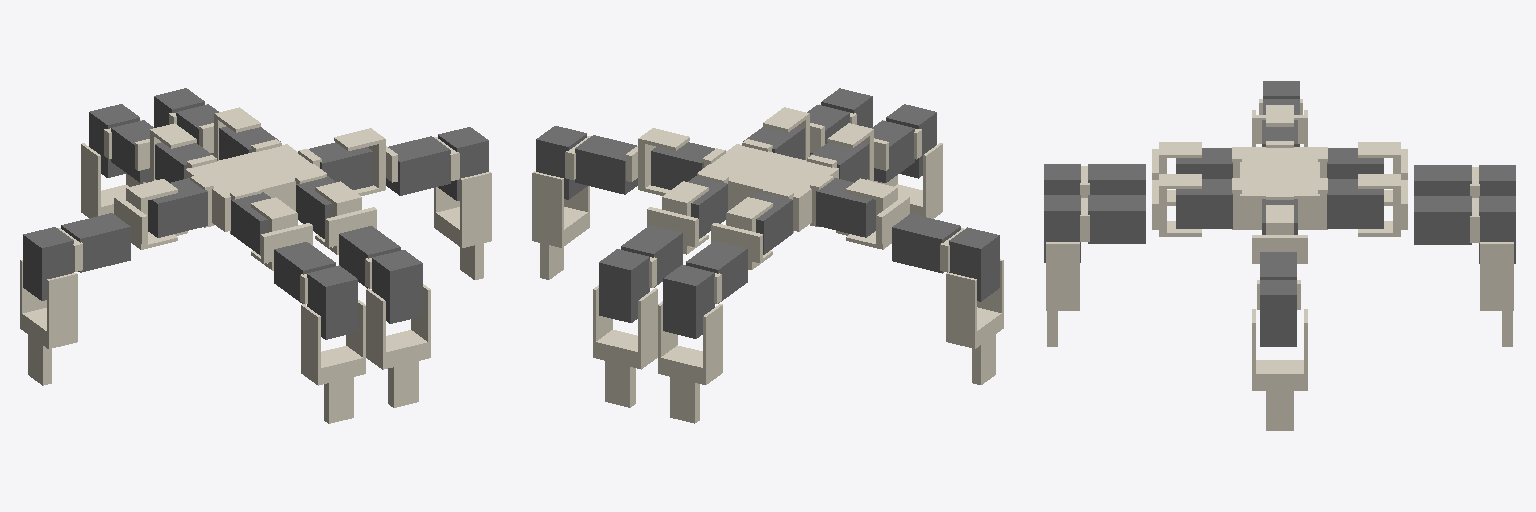
--- What the picture shows (computed from the rendered views, not written in the file) ---
3 views of the same robot in one strip: view 1: azimuth 30°, elevation 25°; view 2: azimuth 150°, elevation 25°; view 3: azimuth 270°, elevation 25° (orthographic).
Model onshape with 19 links and 18 joints (18 revolute), rooted at body, posed all joints at 0.
Links seen in each view (by area): view 1: body, segment2_3, segment2_4, segment2_5, segment2_6, segment3_5, segment3_4, segment3_3, segment3_6, segment2_2, segment1_3, segment1_4 (+6 smaller); view 2: body, segment2_3, segment2_2, segment2, segment2_6, segment3, segment3_2, segment3_3, segment3_6, segment2_4, segment1_2, segment1 (+6 smaller); view 3: body, segment2_5, segment2, segment2_6, segment3_6, segment2_4, segment2_2, segment3, segment3_5, segment1_6, segment1, segment1_5 (+4 smaller).
Boxes of the visible links, <box> form: body: <box>148,126,372,255</box>; segment2_3: <box>23,213,130,300</box>; segment2_4: <box>274,242,357,339</box>; segment2_5: <box>339,226,422,323</box>; segment2_6: <box>386,127,488,200</box>; segment3_5: <box>366,284,430,407</box>; segment3_4: <box>301,300,365,423</box>; segment3_3: <box>20,260,77,385</box>; segment3_6: <box>434,172,491,279</box>; segment2_2: <box>89,104,153,182</box>; segment1_3: <box>114,179,177,249</box>; segment1_4: <box>251,197,312,270</box>; body: <box>651,126,875,254</box>; segment2_3: <box>892,214,999,301</box>; segment2_2: <box>663,241,747,338</box>; segment2: <box>599,225,682,322</box>; segment2_6: <box>536,126,637,199</box>; segment3: <box>593,285,657,407</box>; segment3_2: <box>658,301,722,423</box>; segment3_3: <box>946,259,1003,384</box>; segment3_6: <box>532,171,589,279</box>; segment2_4: <box>872,104,936,182</box>; segment1_2: <box>711,197,772,269</box>; segment1: <box>647,181,708,254</box>; body: <box>1176,120,1383,234</box>; segment2_5: <box>1044,195,1145,262</box>; segment2: <box>1414,196,1515,263</box>; segment2_6: <box>1257,252,1300,346</box>; segment3_6: <box>1252,309,1307,430</box>; segment2_4: <box>1044,164,1145,197</box>; segment2_2: <box>1414,165,1515,197</box>; segment3: <box>1480,242,1513,346</box>; segment3_5: <box>1046,242,1079,346</box>; segment1_6: <box>1252,205,1307,263</box>; segment1: <box>1358,174,1407,236</box>; segment1_5: <box>1152,174,1201,236</box>.
Bounding box of the posed robot: 0.441 × 0.409 × 0.1544 m (x, y, z).
Geometry: primitives only (box / cylinder / sphere), no mesh files.

URDF robot description (onshape):
<robot name="onshape">
<link name="body">
<!-- Shapes for prt0006 -->
<!-- Shapes for prt0006 -->
<!-- Shapes for f3 -->
<collision>
<origin xyz="0.032000000000000007605 0.035350000000000006417 -0.016000000000000000333" rpy="-1.570796326794896558 -0 -1.570796326794896558" />
<geometry>
<box size="0.0043000000000000000028 0.037999999999999999056 0.025000000000000001388" />
</geometry>
</collision>
<!-- Shapes for f3 -->
<visual>
<origin xyz="0.032000000000000007605 0.035350000000000006417 -0.016000000000000000333" rpy="-1.570796326794896558 -0 -1.570796326794896558" />
<geometry>
<box size="0.0043000000000000000028 0.037999999999999999056 0.025000000000000001388" />
</geometry>
<material name="f3_material">
<color rgba="0.90196078431372550543 0.87843137254901959565 0.81176470588235294379 1.0"/>
</material>
</visual>
<!-- Shapes for f3 -->
<collision>
<origin xyz="0.032000000000000007605 -0.039649999999999990807 -0.016000000000000000333" rpy="-1.570796326794896558 -0 -1.570796326794896558" />
<geometry>
<box size="0.0043000000000000000028 0.037999999999999999056 0.025000000000000001388" />
</geometry>
</collision>
<!-- Shapes for f3 -->
<visual>
<origin xyz="0.032000000000000007605 -0.039649999999999990807 -0.016000000000000000333" rpy="-1.570796326794896558 -0 -1.570796326794896558" />
<geometry>
<box size="0.0043000000000000000028 0.037999999999999999056 0.025000000000000001388" />
</geometry>
<material name="f3_material">
<color rgba="0.90196078431372550543 0.87843137254901959565 0.81176470588235294379 1.0"/>
</material>
</visual>
<!-- Shapes for f3 -->
<collision>
<origin xyz="0.032000000000000007605 0.039650000000000004685 -0.016000000000000000333" rpy="-1.570796326794896558 -0 1.570796326794896558" />
<geometry>
<box size="0.0043000000000000000028 0.037999999999999999056 0.025000000000000001388" />
</geometry>
</collision>
<!-- Shapes for f3 -->
<visual>
<origin xyz="0.032000000000000007605 0.039650000000000004685 -0.016000000000000000333" rpy="-1.570796326794896558 -0 1.570796326794896558" />
<geometry>
<box size="0.0043000000000000000028 0.037999999999999999056 0.025000000000000001388" />
</geometry>
<material name="f3_material">
<color rgba="0.90196078431372550543 0.87843137254901959565 0.81176470588235294379 1.0"/>
</material>
</visual>
<!-- Shapes for f3 -->
<collision>
<origin xyz="0.051349999999999999811 0 -0.016000000000000000333" rpy="-1.570796326794896558 -0 3.141592653589793116" />
<geometry>
<box size="0.0043000000000000000028 0.037999999999999999056 0.025000000000000001388" />
</geometry>
</collision>
<!-- Shapes for f3 -->
<visual>
<origin xyz="0.051349999999999999811 0 -0.016000000000000000333" rpy="-1.570796326794896558 -0 3.141592653589793116" />
<geometry>
<box size="0.0043000000000000000028 0.037999999999999999056 0.025000000000000001388" />
</geometry>
<material name="f3_material">
<color rgba="0.90196078431372550543 0.87843137254901959565 0.81176470588235294379 1.0"/>
</material>
</visual>
<!-- Shapes for f3 -->
<collision>
<origin xyz="-0.032000000000000000666 0.035350000000000034173 -0.016000000000000000333" rpy="-1.570796326794896558 -0 -1.570796326794896558" />
<geometry>
<box size="0.0043000000000000000028 0.037999999999999999056 0.025000000000000001388" />
</geometry>
</collision>
<!-- Shapes for f3 -->
<visual>
<origin xyz="-0.032000000000000000666 0.035350000000000034173 -0.016000000000000000333" rpy="-1.570796326794896558 -0 -1.570796326794896558" />
<geometry>
<box size="0.0043000000000000000028 0.037999999999999999056 0.025000000000000001388" />
</geometry>
<material name="f3_material">
<color rgba="0.90196078431372550543 0.87843137254901959565 0.81176470588235294379 1.0"/>
</material>
</visual>
<!-- Shapes for prt0006 -->
<!-- Shapes for prt0006 -->
<!-- Shapes for ax123_adaptor_cm5 -->
<collision>
<origin xyz="0 0 -0.016000000000000000333" rpy="0 -0 3.141592653589793116" />
<geometry>
<box size="0.10100000000000000644 0.069000000000000005773 0.032000000000000000666" />
</geometry>
</collision>
<!-- Shapes for ax123_adaptor_cm5 -->
<visual>
<origin xyz="0 0 -0.016000000000000000333" rpy="0 -0 3.141592653589793116" />
<geometry>
<box size="0.10100000000000000644 0.069000000000000005773 0.032000000000000000666" />
</geometry>
<material name="ax123_adaptor_cm5_material">
<color rgba="0.90196078431372550543 0.87843137254901959565 0.81176470588235294379 1.0"/>
</material>
</visual>
<!-- Shapes for f3 -->
<collision>
<origin xyz="0.032000000000000007605 -0.035349999999999999478 -0.016000000000000000333" rpy="-1.570796326794896558 -0 1.570796326794896558" />
<geometry>
<box size="0.0043000000000000000028 0.037999999999999999056 0.025000000000000001388" />
</geometry>
</collision>
<!-- Shapes for f3 -->
<visual>
<origin xyz="0.032000000000000007605 -0.035349999999999999478 -0.016000000000000000333" rpy="-1.570796326794896558 -0 1.570796326794896558" />
<geometry>
<box size="0.0043000000000000000028 0.037999999999999999056 0.025000000000000001388" />
</geometry>
<material name="f3_material">
<color rgba="0.90196078431372550543 0.87843137254901959565 0.81176470588235294379 1.0"/>
</material>
</visual>
<!-- Shapes for prt0006 -->
<!-- Shapes for prt0006 -->
<!-- Shapes for f3 -->
<collision>
<origin xyz="0.055649999999999998079 0 -0.016000000000000000333" rpy="-1.570796326794896558 -0 0" />
<geometry>
<box size="0.0043000000000000000028 0.037999999999999999056 0.025000000000000001388" />
</geometry>
</collision>
<!-- Shapes for f3 -->
<visual>
<origin xyz="0.055649999999999998079 0 -0.016000000000000000333" rpy="-1.570796326794896558 -0 0" />
<geometry>
<box size="0.0043000000000000000028 0.037999999999999999056 0.025000000000000001388" />
</geometry>
<material name="f3_material">
<color rgba="0.90196078431372550543 0.87843137254901959565 0.81176470588235294379 1.0"/>
</material>
</visual>
<!-- Shapes for f3 -->
<collision>
<origin xyz="-0.032000000000000000666 -0.035349999999999992539 -0.016000000000000000333" rpy="-1.570796326794896558 -0 1.570796326794896558" />
<geometry>
<box size="0.0043000000000000000028 0.037999999999999999056 0.025000000000000001388" />
</geometry>
</collision>
<!-- Shapes for f3 -->
<visual>
<origin xyz="-0.032000000000000000666 -0.035349999999999992539 -0.016000000000000000333" rpy="-1.570796326794896558 -0 1.570796326794896558" />
<geometry>
<box size="0.0043000000000000000028 0.037999999999999999056 0.025000000000000001388" />
</geometry>
<material name="f3_material">
<color rgba="0.90196078431372550543 0.87843137254901959565 0.81176470588235294379 1.0"/>
</material>
</visual>
<!-- Shapes for prt0001 -->
<collision>
<origin xyz="0.032000000000000007605 -0.065499999999999988787 -0.015800000000000001543" rpy="0 -0 0" />
<geometry>
<box size="0.032000000000000000666 0.050000000000000002776 0.032399999999999998246" />
</geometry>
</collision>
<!-- Shapes for prt0001 -->
<visual>
<origin xyz="0.032000000000000007605 -0.065499999999999988787 -0.015800000000000001543" rpy="0 -0 0" />
<geometry>
<box size="0.032000000000000000666 0.050000000000000002776 0.032399999999999998246" />
</geometry>
<material name="prt0001_material">
<color rgba="0.49803921568627451677 0.49803921568627451677 0.49803921568627451677 1.0"/>
</material>
</visual>
<!-- Shapes for prt0006 -->
<!-- Shapes for prt0006 -->
<!-- Shapes for prt0006 -->
<!-- Shapes for prt0006 -->
<!-- Shapes for prt0006 -->
<!-- Shapes for prt0006 -->
<!-- Shapes for prt0001 -->
<collision>
<origin xyz="0.032000000000000007605 0.065500000000000016542 -0.015800000000000001543" rpy="0 -0 3.141592653589793116" />
<geometry>
<box size="0.032000000000000000666 0.050000000000000002776 0.032399999999999998246" />
</geometry>
</collision>
<!-- Shapes for prt0001 -->
<visual>
<origin xyz="0.032000000000000007605 0.065500000000000016542 -0.015800000000000001543" rpy="0 -0 3.141592653589793116" />
<geometry>
<box size="0.032000000000000000666 0.050000000000000002776 0.032399999999999998246" />
</geometry>
<material name="prt0001_material">
<color rgba="0.49803921568627451677 0.49803921568627451677 0.49803921568627451677 1.0"/>
</material>
</visual>
<!-- Shapes for prt0001 -->
<collision>
<origin xyz="-0.031999999999999993727 0.065500000000000016542 -0.015800000000000001543" rpy="0 -0 3.141592653589793116" />
<geometry>
<box size="0.032000000000000000666 0.050000000000000002776 0.032399999999999998246" />
</geometry>
</collision>
<!-- Shapes for prt0001 -->
<visual>
<origin xyz="-0.031999999999999993727 0.065500000000000016542 -0.015800000000000001543" rpy="0 -0 3.141592653589793116" />
<geometry>
<box size="0.032000000000000000666 0.050000000000000002776 0.032399999999999998246" />
</geometry>
<material name="prt0001_material">
<color rgba="0.49803921568627451677 0.49803921568627451677 0.49803921568627451677 1.0"/>
</material>
</visual>
<!-- Shapes for f3 -->
<collision>
<origin xyz="-0.055649999999999998079 0 -0.016000000000000007272" rpy="-1.570796326794896558 1.1102230246251562939e-16 3.141592653589793116" />
<geometry>
<box size="0.0043000000000000000028 0.037999999999999999056 0.025000000000000001388" />
</geometry>
</collision>
<!-- Shapes for f3 -->
<visual>
<origin xyz="-0.055649999999999998079 0 -0.016000000000000007272" rpy="-1.570796326794896558 1.1102230246251562939e-16 3.141592653589793116" />
<geometry>
<box size="0.0043000000000000000028 0.037999999999999999056 0.025000000000000001388" />
</geometry>
<material name="f3_material">
<color rgba="0.90196078431372550543 0.87843137254901959565 0.81176470588235294379 1.0"/>
</material>
</visual>
<!-- Shapes for f3 -->
<collision>
<origin xyz="-0.032000000000000000666 0.039650000000000004685 -0.016000000000000000333" rpy="-1.570796326794896558 -0 1.570796326794896558" />
<geometry>
<box size="0.0043000000000000000028 0.037999999999999999056 0.025000000000000001388" />
</geometry>
</collision>
<!-- Shapes for f3 -->
<visual>
<origin xyz="-0.032000000000000000666 0.039650000000000004685 -0.016000000000000000333" rpy="-1.570796326794896558 -0 1.570796326794896558" />
<geometry>
<box size="0.0043000000000000000028 0.037999999999999999056 0.025000000000000001388" />
</geometry>
<material name="f3_material">
<color rgba="0.90196078431372550543 0.87843137254901959565 0.81176470588235294379 1.0"/>
</material>
</visual>
<!-- Shapes for f3 -->
<collision>
<origin xyz="-0.051349999999999999811 0 -0.016000000000000000333" rpy="-1.570796326794896558 -0 0" />
<geometry>
<box size="0.0043000000000000000028 0.037999999999999999056 0.025000000000000001388" />
</geometry>
</collision>
<!-- Shapes for f3 -->
<visual>
<origin xyz="-0.051349999999999999811 0 -0.016000000000000000333" rpy="-1.570796326794896558 -0 0" />
<geometry>
<box size="0.0043000000000000000028 0.037999999999999999056 0.025000000000000001388" />
</geometry>
<material name="f3_material">
<color rgba="0.90196078431372550543 0.87843137254901959565 0.81176470588235294379 1.0"/>
</material>
</visual>
<!-- Shapes for f3 -->
<collision>
<origin xyz="-0.032000000000000000666 -0.039649999999999990807 -0.016000000000000000333" rpy="-1.570796326794896558 -0 -1.570796326794896558" />
<geometry>
<box size="0.0043000000000000000028 0.037999999999999999056 0.025000000000000001388" />
</geometry>
</collision>
<!-- Shapes for f3 -->
<visual>
<origin xyz="-0.032000000000000000666 -0.039649999999999990807 -0.016000000000000000333" rpy="-1.570796326794896558 -0 -1.570796326794896558" />
<geometry>
<box size="0.0043000000000000000028 0.037999999999999999056 0.025000000000000001388" />
</geometry>
<material name="f3_material">
<color rgba="0.90196078431372550543 0.87843137254901959565 0.81176470588235294379 1.0"/>
</material>
</visual>
<!-- Shapes for prt0001 -->
<collision>
<origin xyz="-0.032000000000000000666 -0.065499999999999988787 -0.015800000000000001543" rpy="0 -0 0" />
<geometry>
<box size="0.032000000000000000666 0.050000000000000002776 0.032399999999999998246" />
</geometry>
</collision>
<!-- Shapes for prt0001 -->
<visual>
<origin xyz="-0.032000000000000000666 -0.065499999999999988787 -0.015800000000000001543" rpy="0 -0 0" />
<geometry>
<box size="0.032000000000000000666 0.050000000000000002776 0.032399999999999998246" />
</geometry>
<material name="prt0001_material">
<color rgba="0.49803921568627451677 0.49803921568627451677 0.49803921568627451677 1.0"/>
</material>
</visual>
<!-- Shapes for prt0001 -->
<collision>
<origin xyz="0.081500000000000030753 0 -0.015800000000000001543" rpy="0 -0 1.570796326794896558" />
<geometry>
<box size="0.032000000000000000666 0.050000000000000002776 0.032399999999999998246" />
</geometry>
</collision>
<!-- Shapes for prt0001 -->
<visual>
<origin xyz="0.081500000000000030753 0 -0.015800000000000001543" rpy="0 -0 1.570796326794896558" />
<geometry>
<box size="0.032000000000000000666 0.050000000000000002776 0.032399999999999998246" />
</geometry>
<material name="prt0001_material">
<color rgba="0.49803921568627451677 0.49803921568627451677 0.49803921568627451677 1.0"/>
</material>
</visual>
<!-- Shapes for prt0001 -->
<collision>
<origin xyz="-0.08149999999999998912 -2.2204460492502996456e-20 -0.015800000000000008482" rpy="1.1102230246251565404e-16 -1.1102230246251560474e-16 -1.570796326794896558" />
<geometry>
<box size="0.032000000000000000666 0.050000000000000002776 0.032399999999999998246" />
</geometry>
</collision>
<!-- Shapes for prt0001 -->
<visual>
<origin xyz="-0.08149999999999998912 -2.2204460492502996456e-20 -0.015800000000000008482" rpy="1.1102230246251565404e-16 -1.1102230246251560474e-16 -1.570796326794896558" />
<geometry>
<box size="0.032000000000000000666 0.050000000000000002776 0.032399999999999998246" />
</geometry>
<material name="prt0001_material">
<color rgba="0.49803921568627451677 0.49803921568627451677 0.49803921568627451677 1.0"/>
</material>
</visual>
<inertial>
<origin xyz="3.4235565708490930351e-17 -5.3264611426996225528e-17 -0.014591079637799557814" rpy="0 0 0"/>
<mass value="0.34202395142368996472" />
<inertia ixx="0.00090770514054412383513" ixy="1.2368741741144997807e-07"  ixz="-6.3103954570445375261e-20" iyy="0.00094740729227736869382" iyz="8.8721738141212642351e-20" izz="0.001779180310385669421" />
</inertial>
</link>

<link name="segment1">
<!-- Shapes for f2 -->
<collision>
<origin xyz="0 -0.0074999999999999997224 0.043700000000000002731" rpy="-3.141592653589793116 1.570796326794896558 0" />
<geometry>
<box size="0.0033999999999999998106 0.036999999999999998168 0.025000000000000001388" />
</geometry>
</collision>
<collision>
<origin xyz="0 -0.022499999999999999167 0.021000000000000001305" rpy="-3.141592653589793116 1.570796326794896558 0" />
<geometry>
<box size="0.048799999999999996159 0.0070000000000000001457 0.025000000000000001388" />
</geometry>
</collision>
<collision>
<origin xyz="0 -0.0074999999999999997224 -0.0016999999999999966527" rpy="-0 -1.570796326794896558 0" />
<geometry>
<box size="0.0033999999999999998106 0.036999999999999998168 0.025000000000000001388" />
</geometry>
</collision>
<!-- Shapes for f2 -->
<visual>
<origin xyz="0 -0.0074999999999999997224 0.043700000000000002731" rpy="-3.141592653589793116 1.570796326794896558 0" />
<geometry>
<box size="0.0033999999999999998106 0.036999999999999998168 0.025000000000000001388" />
</geometry>
<material name="f2_material">
<color rgba="0.90196078431372550543 0.87843137254901959565 0.81176470588235294379 1.0"/>
</material>
</visual>
<visual>
<origin xyz="0 -0.022499999999999999167 0.021000000000000001305" rpy="-3.141592653589793116 1.570796326794896558 0" />
<geometry>
<box size="0.048799999999999996159 0.0070000000000000001457 0.025000000000000001388" />
</geometry>
<material name="f2_material">
<color rgba="0.90196078431372550543 0.87843137254901959565 0.81176470588235294379 1.0"/>
</material>
</visual>
<visual>
<origin xyz="0 -0.0074999999999999997224 -0.0016999999999999966527" rpy="-0 -1.570796326794896558 0" />
<geometry>
<box size="0.0033999999999999998106 0.036999999999999998168 0.025000000000000001388" />
</geometry>
<material name="f2_material">
<color rgba="0.90196078431372550543 0.87843137254901959565 0.81176470588235294379 1.0"/>
</material>
</visual>
<!-- Shapes for f1 -->
<collision>
<origin xyz="0 -0.029000000000000015349 0.020999999999999990896" rpy="3.141592653589793116 -0 0" />
<geometry>
<box size="0.048000000000000000999 0.0060000000000000001249 0.025000000000000001388" />
</geometry>
</collision>
<!-- Shapes for f1 -->
<visual>
<origin xyz="0 -0.029000000000000015349 0.020999999999999990896" rpy="3.141592653589793116 -0 0" />
<geometry>
<box size="0.048000000000000000999 0.0060000000000000001249 0.025000000000000001388" />
</geometry>
<material name="f1_material">
<color rgba="0.90196078431372550543 0.87843137254901959565 0.81176470588235294379 1.0"/>
</material>
</visual>
<inertial>
<origin xyz="1.0923468721934355308e-06 -0.026399668925609690723 0.022973185420021052794" rpy="0 0 0"/>
<mass value="0.016044750372786714676" />
<inertia ixx="6.8884928697577646296e-06" ixy="-3.3294419968167234695e-11"  ixz="3.4582901831144849148e-11" iyy="6.8184578480129727398e-06" iyz="6.5121638690356334061e-07" izz="6.8411800542906683518e-06" />
</inertial>
</link>

<link name="segment2">
<!-- Shapes for prt0006 -->
<!-- Shapes for prt0006 -->
<!-- Shapes for prt0006 -->
<!-- Shapes for prt0006 -->
<!-- Shapes for prt0001 -->
<collision>
<origin xyz="-0.013500000000000001582 0 -0.019899999999999994083" rpy="0 -0 1.570796326794896558" />
<geometry>
<box size="0.032000000000000000666 0.050000000000000002776 0.032399999999999998246" />
</geometry>
</collision>
<!-- Shapes for prt0001 -->
<visual>
<origin xyz="-0.013500000000000001582 0 -0.019899999999999994083" rpy="0 -0 1.570796326794896558" />
<geometry>
<box size="0.032000000000000000666 0.050000000000000002776 0.032399999999999998246" />
</geometry>
<material name="prt0001_material">
<color rgba="0.49803921568627451677 0.49803921568627451677 0.49803921568627451677 1.0"/>
</material>
</visual>
<!-- Shapes for f3 -->
<collision>
<origin xyz="-0.03935000000000000997 0 -0.020099999999999992872" rpy="-1.570796326794896558 -0 0" />
<geometry>
<box size="0.0043000000000000000028 0.037999999999999999056 0.025000000000000001388" />
</geometry>
</collision>
<!-- Shapes for f3 -->
<visual>
<origin xyz="-0.03935000000000000997 0 -0.020099999999999992872" rpy="-1.570796326794896558 -0 0" />
<geometry>
<box size="0.0043000000000000000028 0.037999999999999999056 0.025000000000000001388" />
</geometry>
<material name="f3_material">
<color rgba="0.90196078431372550543 0.87843137254901959565 0.81176470588235294379 1.0"/>
</material>
</visual>
<!-- Shapes for f3 -->
<collision>
<origin xyz="-0.043650000000000008238 0 -0.020099999999999992872" rpy="-1.570796326794896558 -0 3.141592653589793116" />
<geometry>
<box size="0.0043000000000000000028 0.037999999999999999056 0.025000000000000001388" />
</geometry>
</collision>
<!-- Shapes for f3 -->
<visual>
<origin xyz="-0.043650000000000008238 0 -0.020099999999999992872" rpy="-1.570796326794896558 -0 3.141592653589793116" />
<geometry>
<box size="0.0043000000000000000028 0.037999999999999999056 0.025000000000000001388" />
</geometry>
<material name="f3_material">
<color rgba="0.90196078431372550543 0.87843137254901959565 0.81176470588235294379 1.0"/>
</material>
</visual>
<!-- Shapes for prt0001 -->
<collision>
<origin xyz="-0.060499999999999998224 0.0089999999999999906464 -0.019899999999999994083" rpy="0 -0 3.141592653589793116" />
<geometry>
<box size="0.032000000000000000666 0.050000000000000002776 0.032399999999999998246" />
</geometry>
</collision>
<!-- Shapes for prt0001 -->
<visual>
<origin xyz="-0.060499999999999998224 0.0089999999999999906464 -0.019899999999999994083" rpy="0 -0 3.141592653589793116" />
<geometry>
<box size="0.032000000000000000666 0.050000000000000002776 0.032399999999999998246" />
</geometry>
<material name="prt0001_material">
<color rgba="0.49803921568627451677 0.49803921568627451677 0.49803921568627451677 1.0"/>
</material>
</visual>
<inertial>
<origin xyz="-0.037016831520621309992 0.0045137137322821983473 -0.019140437647307891045" rpy="0 0 0"/>
<mass value="0.094970933440056581887" />
<inertia ixx="2.3243481497663799818e-05" ixy="1.0010897413922899976e-05"  ixz="-1.1051629383696597312e-07" iyy="7.1068074999376993446e-05" iyz="-1.1236792301126593791e-07" izz="7.4511947663982909269e-05" />
</inertial>
</link>

<link name="segment3">
<!-- Shapes for f4 -->
<collision>
<origin xyz="0 0.04585000000000009901 0.021000000000000004774" rpy="-0 1.570796326794896558 0" />
<geometry>
<box size="0.048000000000000000999 0.015699999999999998679 0.029000000000000001471" />
</geometry>
</collision>
<collision>
<origin xyz="0 0.021350000000000098066 -0.0014999999999999943934" rpy="-3.141592653589793116 -1.570796326794896558 0" />
<geometry>
<box size="0.0030000000000000000625 0.064700000000000007505 0.029000000000000001471" />
</geometry>
</collision>
<collision>
<origin xyz="0 0.021350000000000101535 0.043500000000000003941" rpy="-0 1.570796326794896558 0" />
<geometry>
<box size="0.0030000000000000000625 0.064700000000000007505 0.029000000000000001471" />
</geometry>
</collision>
<!-- Shapes for f4 -->
<visual>
<origin xyz="0 0.04585000000000009901 0.021000000000000004774" rpy="-0 1.570796326794896558 0" />
<geometry>
<box size="0.048000000000000000999 0.015699999999999998679 0.029000000000000001471" />
</geometry>
<material name="f4_material">
<color rgba="0.90196078431372550543 0.87843137254901959565 0.81176470588235294379 1.0"/>
</material>
</visual>
<visual>
<origin xyz="0 0.021350000000000098066 -0.0014999999999999943934" rpy="-3.141592653589793116 -1.570796326794896558 0" />
<geometry>
<box size="0.0030000000000000000625 0.064700000000000007505 0.029000000000000001471" />
</geometry>
<material name="f4_material">
<color rgba="0.90196078431372550543 0.87843137254901959565 0.81176470588235294379 1.0"/>
</material>
</visual>
<visual>
<origin xyz="0 0.021350000000000101535 0.043500000000000003941" rpy="-0 1.570796326794896558 0" />
<geometry>
<box size="0.0030000000000000000625 0.064700000000000007505 0.029000000000000001471" />
</geometry>
<material name="f4_material">
<color rgba="0.90196078431372550543 0.87843137254901959565 0.81176470588235294379 1.0"/>
</material>
</visual>
<!-- Shapes for f6 -->
<collision>
<origin xyz="0.0090000000000000131978 0.072499999999999092948 0.02100000000000003253" rpy="1.570796326794896558 -0 1.570796326794896558" />
<geometry>
<box size="0.041000000000000001721 0.025000000000000001388 0.00899999999999999932" />
</geometry>
</collision>
<!-- Shapes for f6 -->
<visual>
<origin xyz="0.0090000000000000131978 0.072499999999999092948 0.02100000000000003253" rpy="1.570796326794896558 -0 1.570796326794896558" />
<geometry>
<box size="0.041000000000000001721 0.025000000000000001388 0.00899999999999999932" />
</geometry>
<material name="f6_material">
<color rgba="0.90196078431372550543 0.87843137254901959565 0.81176470588235294379 1.0"/>
</material>
</visual>
<inertial>
<origin xyz="0.0025954970530961121375 0.039161593937512180486 0.021000061499635548634" rpy="0 0 0"/>
<mass value="0.01707949220713730204" />
<inertia ixx="1.4424520102109508648e-05" ixy="-1.2065474106601946738e-06"  ixz="-9.1243324066424739086e-13" iyy="6.7952717509329697225e-06" iyz="4.4363323612224916907e-11" izz="1.0361261508764951149e-05" />
</inertial>
</link>

<joint name="leg1_m3" type="revolute">
<origin xyz="-0.060499999999999998224 0.022499999999999978351 0" rpy="3.141592653589793116 -0 3.141592653589793116" />
<parent link="segment2" />
<child link="segment3" />
<axis xyz="0 0 1"/>
<limit effort="1" velocity="20" />
<joint_properties friction="0.0"/>
</joint>

<joint name="leg1_m2" type="revolute">
<origin xyz="0.021000000000000004774 -0.049000000000000015765 0.035499999999999989897" rpy="1.570796326794896558 -0 1.570796326794896558" />
<parent link="segment1" />
<child link="segment2" />
<axis xyz="0 0 1"/>
<limit effort="1" velocity="20" />
<joint_properties friction="0.0"/>
</joint>

<joint name="leg1_m1" type="revolute">
<origin xyz="0.032000000000000000666 0.079000000000000014655 0.0041000000000000029476" rpy="3.141592653589793116 -0 0" />
<parent link="body" />
<child link="segment1" />
<axis xyz="0 0 1"/>
<limit effort="1" velocity="20" />
<joint_properties friction="0.0"/>
</joint>

<link name="segment1_2">
<!-- Shapes for f1 -->
<collision>
<origin xyz="0 -0.029000000000000015349 0.020999999999999990896" rpy="3.141592653589793116 -0 0" />
<geometry>
<box size="0.048000000000000000999 0.0060000000000000001249 0.025000000000000001388" />
</geometry>
</collision>
<!-- Shapes for f1 -->
<visual>
<origin xyz="0 -0.029000000000000015349 0.020999999999999990896" rpy="3.141592653589793116 -0 0" />
<geometry>
<box size="0.048000000000000000999 0.0060000000000000001249 0.025000000000000001388" />
</geometry>
<material name="f1_material">
<color rgba="0.90196078431372550543 0.87843137254901959565 0.81176470588235294379 1.0"/>
</material>
</visual>
<!-- Shapes for f2 -->
<collision>
<origin xyz="0 -0.0074999999999999997224 0.043700000000000002731" rpy="-3.141592653589793116 1.570796326794896558 0" />
<geometry>
<box size="0.0033999999999999998106 0.036999999999999998168 0.025000000000000001388" />
</geometry>
</collision>
<collision>
<origin xyz="0 -0.022499999999999999167 0.021000000000000001305" rpy="-3.141592653589793116 1.570796326794896558 0" />
<geometry>
<box size="0.048799999999999996159 0.0070000000000000001457 0.025000000000000001388" />
</geometry>
</collision>
<collision>
<origin xyz="0 -0.0074999999999999997224 -0.0016999999999999966527" rpy="-0 -1.570796326794896558 0" />
<geometry>
<box size="0.0033999999999999998106 0.036999999999999998168 0.025000000000000001388" />
</geometry>
</collision>
<!-- Shapes for f2 -->
<visual>
<origin xyz="0 -0.0074999999999999997224 0.043700000000000002731" rpy="-3.141592653589793116 1.570796326794896558 0" />
<geometry>
<box size="0.0033999999999999998106 0.036999999999999998168 0.025000000000000001388" />
</geometry>
<material name="f2_material">
<color rgba="0.90196078431372550543 0.87843137254901959565 0.81176470588235294379 1.0"/>
</material>
</visual>
<visual>
<origin xyz="0 -0.022499999999999999167 0.021000000000000001305" rpy="-3.141592653589793116 1.570796326794896558 0" />
<geometry>
<box size="0.048799999999999996159 0.0070000000000000001457 0.025000000000000001388" />
</geometry>
<material name="f2_material">
<color rgba="0.90196078431372550543 0.87843137254901959565 0.81176470588235294379 1.0"/>
</material>
</visual>
<visual>
<origin xyz="0 -0.0074999999999999997224 -0.0016999999999999966527" rpy="-0 -1.570796326794896558 0" />
<geometry>
<box size="0.0033999999999999998106 0.036999999999999998168 0.025000000000000001388" />
</geometry>
<material name="f2_material">
<color rgba="0.90196078431372550543 0.87843137254901959565 0.81176470588235294379 1.0"/>
</material>
</visual>
<inertial>
<origin xyz="1.0923468721934355308e-06 -0.026399668925609690723 0.022973185420021052794" rpy="0 0 0"/>
<mass value="0.016044750372786714676" />
<inertia ixx="6.8884928697577646296e-06" ixy="-3.3294419968167234695e-11"  ixz="3.4582901831144849148e-11" iyy="6.8184578480129727398e-06" iyz="6.5121638690356334061e-07" izz="6.8411800542906683518e-06" />
</inertial>
</link>

<link name="segment2_2">
<!-- Shapes for prt0001 -->
<collision>
<origin xyz="-0.060499999999999970468 0.0089999999999999906464 -0.019899999999999994083" rpy="0 -0 3.141592653589793116" />
<geometry>
<box size="0.032000000000000000666 0.050000000000000002776 0.032399999999999998246" />
</geometry>
</collision>
<!-- Shapes for prt0001 -->
<visual>
<origin xyz="-0.060499999999999970468 0.0089999999999999906464 -0.019899999999999994083" rpy="0 -0 3.141592653589793116" />
<geometry>
<box size="0.032000000000000000666 0.050000000000000002776 0.032399999999999998246" />
</geometry>
<material name="prt0001_material">
<color rgba="0.49803921568627451677 0.49803921568627451677 0.49803921568627451677 1.0"/>
</material>
</visual>
<!-- Shapes for f3 -->
<collision>
<origin xyz="-0.043650000000000008238 0 -0.020099999999999992872" rpy="-1.570796326794896558 -0 3.141592653589793116" />
<geometry>
<box size="0.0043000000000000000028 0.037999999999999999056 0.025000000000000001388" />
</geometry>
</collision>
<!-- Shapes for f3 -->
<visual>
<origin xyz="-0.043650000000000008238 0 -0.020099999999999992872" rpy="-1.570796326794896558 -0 3.141592653589793116" />
<geometry>
<box size="0.0043000000000000000028 0.037999999999999999056 0.025000000000000001388" />
</geometry>
<material name="f3_material">
<color rgba="0.90196078431372550543 0.87843137254901959565 0.81176470588235294379 1.0"/>
</material>
</visual>
<!-- Shapes for prt0006 -->
<!-- Shapes for prt0006 -->
<!-- Shapes for f3 -->
<collision>
<origin xyz="-0.03935000000000000997 0 -0.020099999999999992872" rpy="-1.570796326794896558 -0 0" />
<geometry>
<box size="0.0043000000000000000028 0.037999999999999999056 0.025000000000000001388" />
</geometry>
</collision>
<!-- Shapes for f3 -->
<visual>
<origin xyz="-0.03935000000000000997 0 -0.020099999999999992872" rpy="-1.570796326794896558 -0 0" />
<geometry>
<box size="0.0043000000000000000028 0.037999999999999999056 0.025000000000000001388" />
</geometry>
<material name="f3_material">
<color rgba="0.90196078431372550543 0.87843137254901959565 0.81176470588235294379 1.0"/>
</material>
</visual>
<!-- Shapes for prt0006 -->
<!-- Shapes for prt0006 -->
<!-- Shapes for prt0001 -->
<collision>
<origin xyz="-0.013500000000000001582 0 -0.019899999999999994083" rpy="0 -0 1.570796326794896558" />
<geometry>
<box size="0.032000000000000000666 0.050000000000000002776 0.032399999999999998246" />
</geometry>
</collision>
<!-- Shapes for prt0001 -->
<visual>
<origin xyz="-0.013500000000000001582 0 -0.019899999999999994083" rpy="0 -0 1.570796326794896558" />
<geometry>
<box size="0.032000000000000000666 0.050000000000000002776 0.032399999999999998246" />
</geometry>
<material name="prt0001_material">
<color rgba="0.49803921568627451677 0.49803921568627451677 0.49803921568627451677 1.0"/>
</material>
</visual>
<inertial>
<origin xyz="-0.037016831520621296114 0.0045137137322821983473 -0.019140437647307887575" rpy="0 0 0"/>
<mass value="0.094970933440056581887" />
<inertia ixx="2.3243481497663799818e-05" ixy="1.0010897413922894894e-05"  ixz="-1.1051629383696613194e-07" iyy="7.1068074999376925683e-05" iyz="-1.1236792301126600409e-07" izz="7.4511947663982855058e-05" />
</inertial>
</link>

<link name="segment3_2">
<!-- Shapes for f6 -->
<collision>
<origin xyz="0.0090000000000000131978 0.072499999999999092948 0.021000000000000001305" rpy="1.570796326794896558 -0 1.570796326794896558" />
<geometry>
<box size="0.041000000000000001721 0.025000000000000001388 0.00899999999999999932" />
</geometry>
</collision>
<!-- Shapes for f6 -->
<visual>
<origin xyz="0.0090000000000000131978 0.072499999999999092948 0.021000000000000001305" rpy="1.570796326794896558 -0 1.570796326794896558" />
<geometry>
<box size="0.041000000000000001721 0.025000000000000001388 0.00899999999999999932" />
</geometry>
<material name="f6_material">
<color rgba="0.90196078431372550543 0.87843137254901959565 0.81176470588235294379 1.0"/>
</material>
</visual>
<!-- Shapes for f4 -->
<collision>
<origin xyz="0 0.04585000000000009901 0.021000000000000001305" rpy="-0 1.570796326794896558 0" />
<geometry>
<box size="0.048000000000000000999 0.015699999999999998679 0.029000000000000001471" />
</geometry>
</collision>
<collision>
<origin xyz="0 0.021350000000000098066 -0.0014999999999999978628" rpy="-3.141592653589793116 -1.570796326794896558 0" />
<geometry>
<box size="0.0030000000000000000625 0.064700000000000007505 0.029000000000000001471" />
</geometry>
</collision>
<collision>
<origin xyz="0 0.021350000000000101535 0.043499999999999997002" rpy="-0 1.570796326794896558 0" />
<geometry>
<box size="0.0030000000000000000625 0.064700000000000007505 0.029000000000000001471" />
</geometry>
</collision>
<!-- Shapes for f4 -->
<visual>
<origin xyz="0 0.04585000000000009901 0.021000000000000001305" rpy="-0 1.570796326794896558 0" />
<geometry>
<box size="0.048000000000000000999 0.015699999999999998679 0.029000000000000001471" />
</geometry>
<material name="f4_material">
<color rgba="0.90196078431372550543 0.87843137254901959565 0.81176470588235294379 1.0"/>
</material>
</visual>
<visual>
<origin xyz="0 0.021350000000000098066 -0.0014999999999999978628" rpy="-3.141592653589793116 -1.570796326794896558 0" />
<geometry>
<box size="0.0030000000000000000625 0.064700000000000007505 0.029000000000000001471" />
</geometry>
<material name="f4_material">
<color rgba="0.90196078431372550543 0.87843137254901959565 0.81176470588235294379 1.0"/>
</material>
</visual>
<visual>
<origin xyz="0 0.021350000000000101535 0.043499999999999997002" rpy="-0 1.570796326794896558 0" />
<geometry>
<box size="0.0030000000000000000625 0.064700000000000007505 0.029000000000000001471" />
</geometry>
<material name="f4_material">
<color rgba="0.90196078431372550543 0.87843137254901959565 0.81176470588235294379 1.0"/>
</material>
</visual>
<inertial>
<origin xyz="0.0025954970530961121375 0.039161593937512180486 0.021000061499635541695" rpy="0 0 0"/>
<mass value="0.01707949220713730204" />
<inertia ixx="1.4424520102109512036e-05" ixy="-1.2065474106601948856e-06"  ixz="-9.1243323989383649071e-13" iyy="6.7952717509329697225e-06" iyz="4.4363323615090974944e-11" izz="1.0361261508764954537e-05" />
</inertial>
</link>

<joint name="leg2_m3" type="revolute">
<origin xyz="-0.060499999999999970468 0.022499999999999992228 -1.7347234759768070944e-18" rpy="3.141592653589793116 -0 3.141592653589793116" />
<parent link="segment2_2" />
<child link="segment3_2" />
<axis xyz="0 0 1"/>
<limit effort="1" velocity="20" />
<joint_properties friction="0.0"/>
</joint>

<joint name="leg2_m2" type="revolute">
<origin xyz="0.021000000000000004774 -0.049000000000000015765 0.035499999999999989897" rpy="1.570796326794896558 -0 1.570796326794896558" />
<parent link="segment1_2" />
<child link="segment2_2" />
<axis xyz="0 0 1"/>
<limit effort="1" velocity="20" />
<joint_properties friction="0.0"/>
</joint>

<joint name="leg2_m1" type="revolute">
<origin xyz="-0.032000000000000000666 0.079000000000000014655 0.0040999999999999960087" rpy="3.141592653589793116 -0 0" />
<parent link="body" />
<child link="segment1_2" />
<axis xyz="0 0 1"/>
<limit effort="1" velocity="20" />
<joint_properties friction="0.0"/>
</joint>

<link name="segment1_3">
<!-- Shapes for f1 -->
<collision>
<origin xyz="1.2267964422107981423e-17 -0.029000000000000015349 0.020999999999999990896" rpy="3.141592653589793116 -0 0" />
<geometry>
<box size="0.048000000000000000999 0.0060000000000000001249 0.025000000000000001388" />
</geometry>
</collision>
<!-- Shapes for f1 -->
<visual>
<origin xyz="1.2267964422107981423e-17 -0.029000000000000015349 0.020999999999999990896" rpy="3.141592653589793116 -0 0" />
<geometry>
<box size="0.048000000000000000999 0.0060000000000000001249 0.025000000000000001388" />
</geometry>
<material name="f1_material">
<color rgba="0.90196078431372550543 0.87843137254901959565 0.81176470588235294379 1.0"/>
</material>
</visual>
<!-- Shapes for f2 -->
<collision>
<origin xyz="0 -0.0074999999999999997224 0.043700000000000002731" rpy="-3.141592653589793116 1.570796326794896558 0" />
<geometry>
<box size="0.0033999999999999998106 0.036999999999999998168 0.025000000000000001388" />
</geometry>
</collision>
<collision>
<origin xyz="0 -0.022499999999999999167 0.021000000000000001305" rpy="-3.141592653589793116 1.570796326794896558 0" />
<geometry>
<box size="0.048799999999999996159 0.0070000000000000001457 0.025000000000000001388" />
</geometry>
</collision>
<collision>
<origin xyz="0 -0.0074999999999999997224 -0.0016999999999999966527" rpy="-0 -1.570796326794896558 0" />
<geometry>
<box size="0.0033999999999999998106 0.036999999999999998168 0.025000000000000001388" />
</geometry>
</collision>
<!-- Shapes for f2 -->
<visual>
<origin xyz="0 -0.0074999999999999997224 0.043700000000000002731" rpy="-3.141592653589793116 1.570796326794896558 0" />
<geometry>
<box size="0.0033999999999999998106 0.036999999999999998168 0.025000000000000001388" />
</geometry>
<material name="f2_material">
<color rgba="0.90196078431372550543 0.87843137254901959565 0.81176470588235294379 1.0"/>
</material>
</visual>
<visual>
<origin xyz="0 -0.022499999999999999167 0.021000000000000001305" rpy="-3.141592653589793116 1.570796326794896558 0" />
<geometry>
<box size="0.048799999999999996159 0.0070000000000000001457 0.025000000000000001388" />
</geometry>
<material name="f2_material">
<color rgba="0.90196078431372550543 0.87843137254901959565 0.81176470588235294379 1.0"/>
</material>
</visual>
<visual>
<origin xyz="0 -0.0074999999999999997224 -0.0016999999999999966527" rpy="-0 -1.570796326794896558 0" />
<geometry>
<box size="0.0033999999999999998106 0.036999999999999998168 0.025000000000000001388" />
</geometry>
<material name="f2_material">
<color rgba="0.90196078431372550543 0.87843137254901959565 0.81176470588235294379 1.0"/>
</material>
</visual>
<inertial>
<origin xyz="1.0923468721998384646e-06 -0.026399668925609690723 0.022973185420021052794" rpy="0 0 0"/>
<mass value="0.016044750372786714676" />
<inertia ixx="6.8884928697577646296e-06" ixy="-3.3294419967102032861e-11"  ixz="3.4582901830959166487e-11" iyy="6.8184578480129727398e-06" iyz="6.5121638690356334061e-07" izz="6.8411800542906683518e-06" />
</inertial>
</link>

<link name="segment2_3">
<!-- Shapes for prt0006 -->
<!-- Shapes for prt0006 -->
<!-- Shapes for prt0006 -->
<!-- Shapes for prt0006 -->
<!-- Shapes for prt0001 -->
<collision>
<origin xyz="-0.060499999999999998224 0.0089999999999999837075 -0.019900000000000004491" rpy="0 -0 3.141592653589793116" />
<geometry>
<box size="0.032000000000000000666 0.050000000000000002776 0.032399999999999998246" />
</geometry>
</collision>
<!-- Shapes for prt0001 -->
<visual>
<origin xyz="-0.060499999999999998224 0.0089999999999999837075 -0.019900000000000004491" rpy="0 -0 3.141592653589793116" />
<geometry>
<box size="0.032000000000000000666 0.050000000000000002776 0.032399999999999998246" />
</geometry>
<material name="prt0001_material">
<color rgba="0.49803921568627451677 0.49803921568627451677 0.49803921568627451677 1.0"/>
</material>
</visual>
<!-- Shapes for f3 -->
<collision>
<origin xyz="-0.039350000000000037725 -6.9388939039072283776e-18 -0.020099999999999999811" rpy="-1.570796326794896558 -0 0" />
<geometry>
<box size="0.0043000000000000000028 0.037999999999999999056 0.025000000000000001388" />
</geometry>
</collision>
<!-- Shapes for f3 -->
<visual>
<origin xyz="-0.039350000000000037725 -6.9388939039072283776e-18 -0.020099999999999999811" rpy="-1.570796326794896558 -0 0" />
<geometry>
<box size="0.0043000000000000000028 0.037999999999999999056 0.025000000000000001388" />
</geometry>
<material name="f3_material">
<color rgba="0.90196078431372550543 0.87843137254901959565 0.81176470588235294379 1.0"/>
</material>
</visual>
<!-- Shapes for f3 -->
<collision>
<origin xyz="-0.043650000000000035993 -6.9388939039072283776e-18 -0.020099999999999999811" rpy="-1.570796326794896558 -0 3.141592653589793116" />
<geometry>
<box size="0.0043000000000000000028 0.037999999999999999056 0.025000000000000001388" />
</geometry>
</collision>
<!-- Shapes for f3 -->
<visual>
<origin xyz="-0.043650000000000035993 -6.9388939039072283776e-18 -0.020099999999999999811" rpy="-1.570796326794896558 -0 3.141592653589793116" />
<geometry>
<box size="0.0043000000000000000028 0.037999999999999999056 0.025000000000000001388" />
</geometry>
<material name="f3_material">
<color rgba="0.90196078431372550543 0.87843137254901959565 0.81176470588235294379 1.0"/>
</material>
</visual>
<!-- Shapes for prt0001 -->
<collision>
<origin xyz="-0.013500000000000001582 0 -0.019900000000000001021" rpy="0 -0 1.570796326794896558" />
<geometry>
<box size="0.032000000000000000666 0.050000000000000002776 0.032399999999999998246" />
</geometry>
</collision>
<!-- Shapes for prt0001 -->
<visual>
<origin xyz="-0.013500000000000001582 0 -0.019900000000000001021" rpy="0 -0 1.570796326794896558" />
<geometry>
<box size="0.032000000000000000666 0.050000000000000002776 0.032399999999999998246" />
</geometry>
<material name="prt0001_material">
<color rgba="0.49803921568627451677 0.49803921568627451677 0.49803921568627451677 1.0"/>
</material>
</visual>
<inertial>
<origin xyz="-0.037016831520621303053 0.0045137137322821948779 -0.019140437647307901453" rpy="0 0 0"/>
<mass value="0.094970933440056581887" />
<inertia ixx="2.3243481497663793042e-05" ixy="1.0010897413922891506e-05"  ixz="-1.1051629383696983771e-07" iyy="7.1068074999376993446e-05" iyz="-1.1236792301126527617e-07" izz="7.4511947663982882164e-05" />
</inertial>
</link>

<link name="segment3_3">
<!-- Shapes for f4 -->
<collision>
<origin xyz="0 0.04585000000000009901 0.021000000000000001305" rpy="-0 1.570796326794896558 0" />
<geometry>
<box size="0.048000000000000000999 0.015699999999999998679 0.029000000000000001471" />
</geometry>
</collision>
<collision>
<origin xyz="0 0.021350000000000098066 -0.0014999999999999978628" rpy="-3.141592653589793116 -1.570796326794896558 0" />
<geometry>
<box size="0.0030000000000000000625 0.064700000000000007505 0.029000000000000001471" />
</geometry>
</collision>
<collision>
<origin xyz="0 0.021350000000000101535 0.043499999999999997002" rpy="-0 1.570796326794896558 0" />
<geometry>
<box size="0.0030000000000000000625 0.064700000000000007505 0.029000000000000001471" />
</geometry>
</collision>
<!-- Shapes for f4 -->
<visual>
<origin xyz="0 0.04585000000000009901 0.021000000000000001305" rpy="-0 1.570796326794896558 0" />
<geometry>
<box size="0.048000000000000000999 0.015699999999999998679 0.029000000000000001471" />
</geometry>
<material name="f4_material">
<color rgba="0.90196078431372550543 0.87843137254901959565 0.81176470588235294379 1.0"/>
</material>
</visual>
<visual>
<origin xyz="0 0.021350000000000098066 -0.0014999999999999978628" rpy="-3.141592653589793116 -1.570796326794896558 0" />
<geometry>
<box size="0.0030000000000000000625 0.064700000000000007505 0.029000000000000001471" />
</geometry>
<material name="f4_material">
<color rgba="0.90196078431372550543 0.87843137254901959565 0.81176470588235294379 1.0"/>
</material>
</visual>
<visual>
<origin xyz="0 0.021350000000000101535 0.043499999999999997002" rpy="-0 1.570796326794896558 0" />
<geometry>
<box size="0.0030000000000000000625 0.064700000000000007505 0.029000000000000001471" />
</geometry>
<material name="f4_material">
<color rgba="0.90196078431372550543 0.87843137254901959565 0.81176470588235294379 1.0"/>
</material>
</visual>
<!-- Shapes for f6 -->
<collision>
<origin xyz="0.0090000000000000131978 0.072499999999999092948 0.021000000000000004774" rpy="1.570796326794896558 -0 1.570796326794896558" />
<geometry>
<box size="0.041000000000000001721 0.025000000000000001388 0.00899999999999999932" />
</geometry>
</collision>
<!-- Shapes for f6 -->
<visual>
<origin xyz="0.0090000000000000131978 0.072499999999999092948 0.021000000000000004774" rpy="1.570796326794896558 -0 1.570796326794896558" />
<geometry>
<box size="0.041000000000000001721 0.025000000000000001388 0.00899999999999999932" />
</geometry>
<material name="f6_material">
<color rgba="0.90196078431372550543 0.87843137254901959565 0.81176470588235294379 1.0"/>
</material>
</visual>
<inertial>
<origin xyz="0.0025954970530961121375 0.039161593937512180486 0.021000061499635541695" rpy="0 0 0"/>
<mass value="0.01707949220713730204" />
<inertia ixx="1.4424520102109512036e-05" ixy="-1.2065474106601948856e-06"  ixz="-9.1243323999013800469e-13" iyy="6.7952717509329697225e-06" iyz="4.4363323614732715266e-11" izz="1.0361261508764954537e-05" />
</inertial>
</link>

<joint name="leg3_m3" type="revolute">
<origin xyz="-0.060499999999999998224 0.02249999999999998529 -1.3877787807814456755e-17" rpy="3.141592653589793116 -0 3.141592653589793116" />
<parent link="segment2_3" />
<child link="segment3_3" />
<axis xyz="0 0 1"/>
<limit effort="1" velocity="20" />
<joint_properties friction="0.0"/>
</joint>

<joint name="leg3_m2" type="revolute">
<origin xyz="0.021000000000000011713 -0.049000000000000015765 0.035499999999999996836" rpy="1.570796326794896558 2.2204460492503130808e-16 1.570796326794896558" />
<parent link="segment1_3" />
<child link="segment2_3" />
<axis xyz="0 0 1"/>
<limit effort="1" velocity="20" />
<joint_properties friction="0.0"/>
</joint>

<joint name="leg3_m1" type="revolute">
<origin xyz="-0.09500000000000000111 -2.3314683517128288797e-18 0.0040999999999999890699" rpy="-3.141592653589793116 -1.1102230246251565404e-16 1.570796326794896558" />
<parent link="body" />
<child link="segment1_3" />
<axis xyz="0 0 1"/>
<limit effort="1" velocity="20" />
<joint_properties friction="0.0"/>
</joint>

<link name="segment1_4">
<!-- Shapes for f2 -->
<collision>
<origin xyz="0 -0.0074999999999999997224 0.043700000000000002731" rpy="-3.141592653589793116 1.570796326794896558 0" />
<geometry>
<box size="0.0033999999999999998106 0.036999999999999998168 0.025000000000000001388" />
</geometry>
</collision>
<collision>
<origin xyz="0 -0.022499999999999999167 0.021000000000000001305" rpy="-3.141592653589793116 1.570796326794896558 0" />
<geometry>
<box size="0.048799999999999996159 0.0070000000000000001457 0.025000000000000001388" />
</geometry>
</collision>
<collision>
<origin xyz="0 -0.0074999999999999997224 -0.0016999999999999966527" rpy="-0 -1.570796326794896558 0" />
<geometry>
<box size="0.0033999999999999998106 0.036999999999999998168 0.025000000000000001388" />
</geometry>
</collision>
<!-- Shapes for f2 -->
<visual>
<origin xyz="0 -0.0074999999999999997224 0.043700000000000002731" rpy="-3.141592653589793116 1.570796326794896558 0" />
<geometry>
<box size="0.0033999999999999998106 0.036999999999999998168 0.025000000000000001388" />
</geometry>
<material name="f2_material">
<color rgba="0.90196078431372550543 0.87843137254901959565 0.81176470588235294379 1.0"/>
</material>
</visual>
<visual>
<origin xyz="0 -0.022499999999999999167 0.021000000000000001305" rpy="-3.141592653589793116 1.570796326794896558 0" />
<geometry>
<box size="0.048799999999999996159 0.0070000000000000001457 0.025000000000000001388" />
</geometry>
<material name="f2_material">
<color rgba="0.90196078431372550543 0.87843137254901959565 0.81176470588235294379 1.0"/>
</material>
</visual>
<visual>
<origin xyz="0 -0.0074999999999999997224 -0.0016999999999999966527" rpy="-0 -1.570796326794896558 0" />
<geometry>
<box size="0.0033999999999999998106 0.036999999999999998168 0.025000000000000001388" />
</geometry>
<material name="f2_material">
<color rgba="0.90196078431372550543 0.87843137254901959565 0.81176470588235294379 1.0"/>
</material>
</visual>
<!-- Shapes for f1 -->
<collision>
<origin xyz="0 -0.029000000000000015349 0.020999999999999990896" rpy="3.141592653589793116 -0 0" />
<geometry>
<box size="0.048000000000000000999 0.0060000000000000001249 0.025000000000000001388" />
</geometry>
</collision>
<!-- Shapes for f1 -->
<visual>
<origin xyz="0 -0.029000000000000015349 0.020999999999999990896" rpy="3.141592653589793116 -0 0" />
<geometry>
<box size="0.048000000000000000999 0.0060000000000000001249 0.025000000000000001388" />
</geometry>
<material name="f1_material">
<color rgba="0.90196078431372550543 0.87843137254901959565 0.81176470588235294379 1.0"/>
</material>
</visual>
<inertial>
<origin xyz="1.0923468721934355308e-06 -0.026399668925609690723 0.022973185420021052794" rpy="0 0 0"/>
<mass value="0.016044750372786714676" />
<inertia ixx="6.8884928697577646296e-06" ixy="-3.3294419968167234695e-11"  ixz="3.4582901831144849148e-11" iyy="6.8184578480129727398e-06" iyz="6.5121638690356334061e-07" izz="6.8411800542906683518e-06" />
</inertial>
</link>

<link name="segment2_4">
<!-- Shapes for f3 -->
<collision>
<origin xyz="-0.043649999999999980482 0 -0.020099999999999985933" rpy="-1.570796326794896558 -0 3.141592653589793116" />
<geometry>
<box size="0.0043000000000000000028 0.037999999999999999056 0.025000000000000001388" />
</geometry>
</collision>
<!-- Shapes for f3 -->
<visual>
<origin xyz="-0.043649999999999980482 0 -0.020099999999999985933" rpy="-1.570796326794896558 -0 3.141592653589793116" />
<geometry>
<box size="0.0043000000000000000028 0.037999999999999999056 0.025000000000000001388" />
</geometry>
<material name="f3_material">
<color rgba="0.90196078431372550543 0.87843137254901959565 0.81176470588235294379 1.0"/>
</material>
</visual>
<!-- Shapes for prt0001 -->
<collision>
<origin xyz="-0.013500000000000001582 0 -0.019899999999999987144" rpy="0 -0 1.570796326794896558" />
<geometry>
<box size="0.032000000000000000666 0.050000000000000002776 0.032399999999999998246" />
</geometry>
</collision>
<!-- Shapes for prt0001 -->
<visual>
<origin xyz="-0.013500000000000001582 0 -0.019899999999999987144" rpy="0 -0 1.570796326794896558" />
<geometry>
<box size="0.032000000000000000666 0.050000000000000002776 0.032399999999999998246" />
</geometry>
<material name="prt0001_material">
<color rgba="0.49803921568627451677 0.49803921568627451677 0.49803921568627451677 1.0"/>
</material>
</visual>
<!-- Shapes for prt0006 -->
<!-- Shapes for prt0006 -->
<!-- Shapes for prt0006 -->
<!-- Shapes for prt0006 -->
<!-- Shapes for f3 -->
<collision>
<origin xyz="-0.039349999999999982214 0 -0.020099999999999985933" rpy="-1.570796326794896558 -0 0" />
<geometry>
<box size="0.0043000000000000000028 0.037999999999999999056 0.025000000000000001388" />
</geometry>
</collision>
<!-- Shapes for f3 -->
<visual>
<origin xyz="-0.039349999999999982214 0 -0.020099999999999985933" rpy="-1.570796326794896558 -0 0" />
<geometry>
<box size="0.0043000000000000000028 0.037999999999999999056 0.025000000000000001388" />
</geometry>
<material name="f3_material">
<color rgba="0.90196078431372550543 0.87843137254901959565 0.81176470588235294379 1.0"/>
</material>
</visual>
<!-- Shapes for prt0001 -->
<collision>
<origin xyz="-0.060499999999999998224 0.0089999999999999906464 -0.019899999999999987144" rpy="0 -0 3.141592653589793116" />
<geometry>
<box size="0.032000000000000000666 0.050000000000000002776 0.032399999999999998246" />
</geometry>
</collision>
<!-- Shapes for prt0001 -->
<visual>
<origin xyz="-0.060499999999999998224 0.0089999999999999906464 -0.019899999999999987144" rpy="0 -0 3.141592653589793116" />
<geometry>
<box size="0.032000000000000000666 0.050000000000000002776 0.032399999999999998246" />
</geometry>
<material name="prt0001_material">
<color rgba="0.49803921568627451677 0.49803921568627451677 0.49803921568627451677 1.0"/>
</material>
</visual>
<inertial>
<origin xyz="-0.037016831520621303053 0.0045137137322821983473 -0.019140437647307880636" rpy="0 0 0"/>
<mass value="0.094970933440056581887" />
<inertia ixx="2.3243481497663799818e-05" ixy="1.001089741392290167e-05"  ixz="-1.1051629383696576136e-07" iyy="7.1068074999376979893e-05" iyz="-1.1236792301126577909e-07" izz="7.4511947663982909269e-05" />
</inertial>
</link>

<link name="segment3_4">
<!-- Shapes for f6 -->
<collision>
<origin xyz="0.0090000000000000131978 0.072499999999999092948 0.021000000000000018652" rpy="1.570796326794896558 -0 1.570796326794896558" />
<geometry>
<box size="0.041000000000000001721 0.025000000000000001388 0.00899999999999999932" />
</geometry>
</collision>
<!-- Shapes for f6 -->
<visual>
<origin xyz="0.0090000000000000131978 0.072499999999999092948 0.021000000000000018652" rpy="1.570796326794896558 -0 1.570796326794896558" />
<geometry>
<box size="0.041000000000000001721 0.025000000000000001388 0.00899999999999999932" />
</geometry>
<material name="f6_material">
<color rgba="0.90196078431372550543 0.87843137254901959565 0.81176470588235294379 1.0"/>
</material>
</visual>
<!-- Shapes for f4 -->
<collision>
<origin xyz="1.4128622072024757661e-33 0.04585000000000009901 0.021000000000000004774" rpy="-0 1.570796326794896558 0" />
<geometry>
<box size="0.048000000000000000999 0.015699999999999998679 0.029000000000000001471" />
</geometry>
</collision>
<collision>
<origin xyz="6.5789766900267958198e-34 0.021350000000000098066 -0.0014999999999999943934" rpy="-3.141592653589793116 -1.570796326794896558 0" />
<geometry>
<box size="0.0030000000000000000625 0.064700000000000007505 0.029000000000000001471" />
</geometry>
</collision>
<collision>
<origin xyz="6.5789766900267966751e-34 0.021350000000000101535 0.043500000000000003941" rpy="-0 1.570796326794896558 0" />
<geometry>
<box size="0.0030000000000000000625 0.064700000000000007505 0.029000000000000001471" />
</geometry>
</collision>
<!-- Shapes for f4 -->
<visual>
<origin xyz="1.4128622072024757661e-33 0.04585000000000009901 0.021000000000000004774" rpy="-0 1.570796326794896558 0" />
<geometry>
<box size="0.048000000000000000999 0.015699999999999998679 0.029000000000000001471" />
</geometry>
<material name="f4_material">
<color rgba="0.90196078431372550543 0.87843137254901959565 0.81176470588235294379 1.0"/>
</material>
</visual>
<visual>
<origin xyz="6.5789766900267958198e-34 0.021350000000000098066 -0.0014999999999999943934" rpy="-3.141592653589793116 -1.570796326794896558 0" />
<geometry>
<box size="0.0030000000000000000625 0.064700000000000007505 0.029000000000000001471" />
</geometry>
<material name="f4_material">
<color rgba="0.90196078431372550543 0.87843137254901959565 0.81176470588235294379 1.0"/>
</material>
</visual>
<visual>
<origin xyz="6.5789766900267966751e-34 0.021350000000000101535 0.043500000000000003941" rpy="-0 1.570796326794896558 0" />
<geometry>
<box size="0.0030000000000000000625 0.064700000000000007505 0.029000000000000001471" />
</geometry>
<material name="f4_material">
<color rgba="0.90196078431372550543 0.87843137254901959565 0.81176470588235294379 1.0"/>
</material>
</visual>
<inertial>
<origin xyz="0.0025954970530961121375 0.039161593937512180486 0.021000061499635545165" rpy="0 0 0"/>
<mass value="0.01707949220713730204" />
<inertia ixx="1.4424520102109512036e-05" ixy="-1.2065474106601948856e-06"  ixz="-9.1243324027904194079e-13" iyy="6.7952717509329697225e-06" iyz="4.4363323613657942694e-11" izz="1.0361261508764954537e-05" />
</inertial>
</link>

<joint name="leg4_m3" type="revolute">
<origin xyz="-0.060499999999999998224 0.022500000000000006106 -6.9388939039072283776e-18" rpy="3.141592653589793116 -0 3.141592653589793116" />
<parent link="segment2_4" />
<child link="segment3_4" />
<axis xyz="0 0 1"/>
<limit effort="1" velocity="20" />
<joint_properties friction="0.0"/>
</joint>

<joint name="leg4_m2" type="revolute">
<origin xyz="0.021000000000000011713 -0.049000000000000015765 0.035499999999999989897" rpy="1.570796326794896558 -0 1.570796326794896558" />
<parent link="segment1_4" />
<child link="segment2_4" />
<axis xyz="0 0 1"/>
<limit effort="1" velocity="20" />
<joint_properties friction="0.0"/>
</joint>

<joint name="leg4_m1" type="revolute">
<origin xyz="-0.032000000000000000666 -0.078999999999999986899 0.0040999999999999960087" rpy="3.141592653589793116 -0 3.141592653589793116" />
<parent link="body" />
<child link="segment1_4" />
<axis xyz="0 0 1"/>
<limit effort="1" velocity="20" />
<joint_properties friction="0.0"/>
</joint>

<link name="segment1_5">
<!-- Shapes for f1 -->
<collision>
<origin xyz="0 -0.029000000000000015349 0.020999999999999990896" rpy="3.141592653589793116 -0 0" />
<geometry>
<box size="0.048000000000000000999 0.0060000000000000001249 0.025000000000000001388" />
</geometry>
</collision>
<!-- Shapes for f1 -->
<visual>
<origin xyz="0 -0.029000000000000015349 0.020999999999999990896" rpy="3.141592653589793116 -0 0" />
<geometry>
<box size="0.048000000000000000999 0.0060000000000000001249 0.025000000000000001388" />
</geometry>
<material name="f1_material">
<color rgba="0.90196078431372550543 0.87843137254901959565 0.81176470588235294379 1.0"/>
</material>
</visual>
<!-- Shapes for f2 -->
<collision>
<origin xyz="0 -0.0074999999999999997224 0.043700000000000002731" rpy="-3.141592653589793116 1.570796326794896558 0" />
<geometry>
<box size="0.0033999999999999998106 0.036999999999999998168 0.025000000000000001388" />
</geometry>
</collision>
<collision>
<origin xyz="0 -0.022499999999999999167 0.021000000000000001305" rpy="-3.141592653589793116 1.570796326794896558 0" />
<geometry>
<box size="0.048799999999999996159 0.0070000000000000001457 0.025000000000000001388" />
</geometry>
</collision>
<collision>
<origin xyz="0 -0.0074999999999999997224 -0.0016999999999999966527" rpy="-0 -1.570796326794896558 0" />
<geometry>
<box size="0.0033999999999999998106 0.036999999999999998168 0.025000000000000001388" />
</geometry>
</collision>
<!-- Shapes for f2 -->
<visual>
<origin xyz="0 -0.0074999999999999997224 0.043700000000000002731" rpy="-3.141592653589793116 1.570796326794896558 0" />
<geometry>
<box size="0.0033999999999999998106 0.036999999999999998168 0.025000000000000001388" />
</geometry>
<material name="f2_material">
<color rgba="0.90196078431372550543 0.87843137254901959565 0.81176470588235294379 1.0"/>
</material>
</visual>
<visual>
<origin xyz="0 -0.022499999999999999167 0.021000000000000001305" rpy="-3.141592653589793116 1.570796326794896558 0" />
<geometry>
<box size="0.048799999999999996159 0.0070000000000000001457 0.025000000000000001388" />
</geometry>
<material name="f2_material">
<color rgba="0.90196078431372550543 0.87843137254901959565 0.81176470588235294379 1.0"/>
</material>
</visual>
<visual>
<origin xyz="0 -0.0074999999999999997224 -0.0016999999999999966527" rpy="-0 -1.570796326794896558 0" />
<geometry>
<box size="0.0033999999999999998106 0.036999999999999998168 0.025000000000000001388" />
</geometry>
<material name="f2_material">
<color rgba="0.90196078431372550543 0.87843137254901959565 0.81176470588235294379 1.0"/>
</material>
</visual>
<inertial>
<origin xyz="1.0923468721934355308e-06 -0.026399668925609690723 0.022973185420021052794" rpy="0 0 0"/>
<mass value="0.016044750372786714676" />
<inertia ixx="6.8884928697577646296e-06" ixy="-3.3294419968167234695e-11"  ixz="3.4582901831144849148e-11" iyy="6.8184578480129727398e-06" iyz="6.5121638690356334061e-07" izz="6.8411800542906683518e-06" />
</inertial>
</link>

<link name="segment2_5">
<!-- Shapes for prt0001 -->
<collision>
<origin xyz="-0.013500000000000001582 0 -0.019899999999999994083" rpy="0 -0 1.570796326794896558" />
<geometry>
<box size="0.032000000000000000666 0.050000000000000002776 0.032399999999999998246" />
</geometry>
</collision>
<!-- Shapes for prt0001 -->
<visual>
<origin xyz="-0.013500000000000001582 0 -0.019899999999999994083" rpy="0 -0 1.570796326794896558" />
<geometry>
<box size="0.032000000000000000666 0.050000000000000002776 0.032399999999999998246" />
</geometry>
<material name="prt0001_material">
<color rgba="0.49803921568627451677 0.49803921568627451677 0.49803921568627451677 1.0"/>
</material>
</visual>
<!-- Shapes for f3 -->
<collision>
<origin xyz="-0.03935000000000000997 0 -0.020099999999999992872" rpy="-1.570796326794896558 -0 0" />
<geometry>
<box size="0.0043000000000000000028 0.037999999999999999056 0.025000000000000001388" />
</geometry>
</collision>
<!-- Shapes for f3 -->
<visual>
<origin xyz="-0.03935000000000000997 0 -0.020099999999999992872" rpy="-1.570796326794896558 -0 0" />
<geometry>
<box size="0.0043000000000000000028 0.037999999999999999056 0.025000000000000001388" />
</geometry>
<material name="f3_material">
<color rgba="0.90196078431372550543 0.87843137254901959565 0.81176470588235294379 1.0"/>
</material>
</visual>
<!-- Shapes for prt0006 -->
<!-- Shapes for prt0006 -->
<!-- Shapes for prt0001 -->
<collision>
<origin xyz="-0.060500000000000025979 0.0089999999999999975853 -0.019899999999999994083" rpy="0 -0 3.141592653589793116" />
<geometry>
<box size="0.032000000000000000666 0.050000000000000002776 0.032399999999999998246" />
</geometry>
</collision>
<!-- Shapes for prt0001 -->
<visual>
<origin xyz="-0.060500000000000025979 0.0089999999999999975853 -0.019899999999999994083" rpy="0 -0 3.141592653589793116" />
<geometry>
<box size="0.032000000000000000666 0.050000000000000002776 0.032399999999999998246" />
</geometry>
<material name="prt0001_material">
<color rgba="0.49803921568627451677 0.49803921568627451677 0.49803921568627451677 1.0"/>
</material>
</visual>
<!-- Shapes for f3 -->
<collision>
<origin xyz="-0.043650000000000008238 0 -0.020099999999999992872" rpy="-1.570796326794896558 -0 3.141592653589793116" />
<geometry>
<box size="0.0043000000000000000028 0.037999999999999999056 0.025000000000000001388" />
</geometry>
</collision>
<!-- Shapes for f3 -->
<visual>
<origin xyz="-0.043650000000000008238 0 -0.020099999999999992872" rpy="-1.570796326794896558 -0 3.141592653589793116" />
<geometry>
<box size="0.0043000000000000000028 0.037999999999999999056 0.025000000000000001388" />
</geometry>
<material name="f3_material">
<color rgba="0.90196078431372550543 0.87843137254901959565 0.81176470588235294379 1.0"/>
</material>
</visual>
<!-- Shapes for prt0006 -->
<!-- Shapes for prt0006 -->
<inertial>
<origin xyz="-0.03701683152062132387 0.0045137137322822018168 -0.019140437647307891045" rpy="0 0 0"/>
<mass value="0.094970933440056568009" />
<inertia ixx="2.3243481497663799818e-05" ixy="1.0010897413922913529e-05"  ixz="-1.1051629383696592018e-07" iyy="7.1068074999377034103e-05" iyz="-1.1236792301126599085e-07" izz="7.4511947663982977031e-05" />
</inertial>
</link>

<link name="segment3_5">
<!-- Shapes for f6 -->
<collision>
<origin xyz="0.0090000000000000131978 0.072499999999999092948 0.021000000000000001305" rpy="1.570796326794896558 -0 1.570796326794896558" />
<geometry>
<box size="0.041000000000000001721 0.025000000000000001388 0.00899999999999999932" />
</geometry>
</collision>
<!-- Shapes for f6 -->
<visual>
<origin xyz="0.0090000000000000131978 0.072499999999999092948 0.021000000000000001305" rpy="1.570796326794896558 -0 1.570796326794896558" />
<geometry>
<box size="0.041000000000000001721 0.025000000000000001388 0.00899999999999999932" />
</geometry>
<material name="f6_material">
<color rgba="0.90196078431372550543 0.87843137254901959565 0.81176470588235294379 1.0"/>
</material>
</visual>
<!-- Shapes for f4 -->
<collision>
<origin xyz="1.4128622072024757661e-33 0.04585000000000009901 0.021000000000000001305" rpy="-0 1.570796326794896558 0" />
<geometry>
<box size="0.048000000000000000999 0.015699999999999998679 0.029000000000000001471" />
</geometry>
</collision>
<collision>
<origin xyz="6.5789766900267958198e-34 0.021350000000000098066 -0.0014999999999999978628" rpy="-3.141592653589793116 -1.570796326794896558 0" />
<geometry>
<box size="0.0030000000000000000625 0.064700000000000007505 0.029000000000000001471" />
</geometry>
</collision>
<collision>
<origin xyz="6.5789766900267966751e-34 0.021350000000000101535 0.043499999999999997002" rpy="-0 1.570796326794896558 0" />
<geometry>
<box size="0.0030000000000000000625 0.064700000000000007505 0.029000000000000001471" />
</geometry>
</collision>
<!-- Shapes for f4 -->
<visual>
<origin xyz="1.4128622072024757661e-33 0.04585000000000009901 0.021000000000000001305" rpy="-0 1.570796326794896558 0" />
<geometry>
<box size="0.048000000000000000999 0.015699999999999998679 0.029000000000000001471" />
</geometry>
<material name="f4_material">
<color rgba="0.90196078431372550543 0.87843137254901959565 0.81176470588235294379 1.0"/>
</material>
</visual>
<visual>
<origin xyz="6.5789766900267958198e-34 0.021350000000000098066 -0.0014999999999999978628" rpy="-3.141592653589793116 -1.570796326794896558 0" />
<geometry>
<box size="0.0030000000000000000625 0.064700000000000007505 0.029000000000000001471" />
</geometry>
<material name="f4_material">
<color rgba="0.90196078431372550543 0.87843137254901959565 0.81176470588235294379 1.0"/>
</material>
</visual>
<visual>
<origin xyz="6.5789766900267966751e-34 0.021350000000000101535 0.043499999999999997002" rpy="-0 1.570796326794896558 0" />
<geometry>
<box size="0.0030000000000000000625 0.064700000000000007505 0.029000000000000001471" />
</geometry>
<material name="f4_material">
<color rgba="0.90196078431372550543 0.87843137254901959565 0.81176470588235294379 1.0"/>
</material>
</visual>
<inertial>
<origin xyz="0.0025954970530961121375 0.039161593937512180486 0.021000061499635541695" rpy="0 0 0"/>
<mass value="0.01707949220713730204" />
<inertia ixx="1.4424520102109508648e-05" ixy="-1.2065474106601946738e-06"  ixz="-9.1243323989383649071e-13" iyy="6.7952717509329697225e-06" iyz="4.4363323615090968482e-11" izz="1.0361261508764951149e-05" />
</inertial>
</link>

<joint name="leg5_m3" type="revolute">
<origin xyz="-0.060500000000000053735 0.02249999999999998529 -1.7347234759768070944e-18" rpy="3.141592653589793116 -0 3.141592653589793116" />
<parent link="segment2_5" />
<child link="segment3_5" />
<axis xyz="0 0 1"/>
<limit effort="1" velocity="20" />
<joint_properties friction="0.0"/>
</joint>

<joint name="leg5_m2" type="revolute">
<origin xyz="0.020999999999999997835 -0.049000000000000015765 0.035499999999999962141" rpy="1.570796326794896558 -0 1.570796326794896558" />
<parent link="segment1_5" />
<child link="segment2_5" />
<axis xyz="0 0 1"/>
<limit effort="1" velocity="20" />
<joint_properties friction="0.0"/>
</joint>

<joint name="leg5_m1" type="revolute">
<origin xyz="0.032000000000000007605 -0.078999999999999986899 0.0040999999999999960087" rpy="3.141592653589793116 -0 3.141592653589793116" />
<parent link="body" />
<child link="segment1_5" />
<axis xyz="0 0 1"/>
<limit effort="1" velocity="20" />
<joint_properties friction="0.0"/>
</joint>

<link name="segment1_6">
<!-- Shapes for f2 -->
<collision>
<origin xyz="0 -0.0074999999999999997224 0.043700000000000002731" rpy="-3.141592653589793116 1.570796326794896558 0" />
<geometry>
<box size="0.0033999999999999998106 0.036999999999999998168 0.025000000000000001388" />
</geometry>
</collision>
<collision>
<origin xyz="0 -0.022499999999999999167 0.021000000000000001305" rpy="-3.141592653589793116 1.570796326794896558 0" />
<geometry>
<box size="0.048799999999999996159 0.0070000000000000001457 0.025000000000000001388" />
</geometry>
</collision>
<collision>
<origin xyz="0 -0.0074999999999999997224 -0.0016999999999999966527" rpy="-0 -1.570796326794896558 0" />
<geometry>
<box size="0.0033999999999999998106 0.036999999999999998168 0.025000000000000001388" />
</geometry>
</collision>
<!-- Shapes for f2 -->
<visual>
<origin xyz="0 -0.0074999999999999997224 0.043700000000000002731" rpy="-3.141592653589793116 1.570796326794896558 0" />
<geometry>
<box size="0.0033999999999999998106 0.036999999999999998168 0.025000000000000001388" />
</geometry>
<material name="f2_material">
<color rgba="0.90196078431372550543 0.87843137254901959565 0.81176470588235294379 1.0"/>
</material>
</visual>
<visual>
<origin xyz="0 -0.022499999999999999167 0.021000000000000001305" rpy="-3.141592653589793116 1.570796326794896558 0" />
<geometry>
<box size="0.048799999999999996159 0.0070000000000000001457 0.025000000000000001388" />
</geometry>
<material name="f2_material">
<color rgba="0.90196078431372550543 0.87843137254901959565 0.81176470588235294379 1.0"/>
</material>
</visual>
<visual>
<origin xyz="0 -0.0074999999999999997224 -0.0016999999999999966527" rpy="-0 -1.570796326794896558 0" />
<geometry>
<box size="0.0033999999999999998106 0.036999999999999998168 0.025000000000000001388" />
</geometry>
<material name="f2_material">
<color rgba="0.90196078431372550543 0.87843137254901959565 0.81176470588235294379 1.0"/>
</material>
</visual>
<!-- Shapes for f1 -->
<collision>
<origin xyz="0 -0.029000000000000015349 0.020999999999999990896" rpy="3.141592653589793116 -0 0" />
<geometry>
<box size="0.048000000000000000999 0.0060000000000000001249 0.025000000000000001388" />
</geometry>
</collision>
<!-- Shapes for f1 -->
<visual>
<origin xyz="0 -0.029000000000000015349 0.020999999999999990896" rpy="3.141592653589793116 -0 0" />
<geometry>
<box size="0.048000000000000000999 0.0060000000000000001249 0.025000000000000001388" />
</geometry>
<material name="f1_material">
<color rgba="0.90196078431372550543 0.87843137254901959565 0.81176470588235294379 1.0"/>
</material>
</visual>
<inertial>
<origin xyz="1.0923468721934355308e-06 -0.026399668925609690723 0.022973185420021052794" rpy="0 0 0"/>
<mass value="0.016044750372786714676" />
<inertia ixx="6.8884928697577646296e-06" ixy="-3.3294419968167234695e-11"  ixz="3.4582901831144849148e-11" iyy="6.8184578480129727398e-06" iyz="6.5121638690356334061e-07" izz="6.8411800542906683518e-06" />
</inertial>
</link>

<link name="segment2_6">
<!-- Shapes for prt0001 -->
<collision>
<origin xyz="-0.013500000000000001582 0 -0.019899999999999973266" rpy="0 -0 1.570796326794896558" />
<geometry>
<box size="0.032000000000000000666 0.050000000000000002776 0.032399999999999998246" />
</geometry>
</collision>
<!-- Shapes for prt0001 -->
<visual>
<origin xyz="-0.013500000000000001582 0 -0.019899999999999973266" rpy="0 -0 1.570796326794896558" />
<geometry>
<box size="0.032000000000000000666 0.050000000000000002776 0.032399999999999998246" />
</geometry>
<material name="prt0001_material">
<color rgba="0.49803921568627451677 0.49803921568627451677 0.49803921568627451677 1.0"/>
</material>
</visual>
<!-- Shapes for prt0001 -->
<collision>
<origin xyz="-0.060499999999999998224 0.0089999999999999906464 -0.019899999999999973266" rpy="0 -0 3.141592653589793116" />
<geometry>
<box size="0.032000000000000000666 0.050000000000000002776 0.032399999999999998246" />
</geometry>
</collision>
<!-- Shapes for prt0001 -->
<visual>
<origin xyz="-0.060499999999999998224 0.0089999999999999906464 -0.019899999999999973266" rpy="0 -0 3.141592653589793116" />
<geometry>
<box size="0.032000000000000000666 0.050000000000000002776 0.032399999999999998246" />
</geometry>
<material name="prt0001_material">
<color rgba="0.49803921568627451677 0.49803921568627451677 0.49803921568627451677 1.0"/>
</material>
</visual>
<!-- Shapes for f3 -->
<collision>
<origin xyz="-0.03935000000000000997 0 -0.020099999999999972056" rpy="-1.570796326794896558 -0 0" />
<geometry>
<box size="0.0043000000000000000028 0.037999999999999999056 0.025000000000000001388" />
</geometry>
</collision>
<!-- Shapes for f3 -->
<visual>
<origin xyz="-0.03935000000000000997 0 -0.020099999999999972056" rpy="-1.570796326794896558 -0 0" />
<geometry>
<box size="0.0043000000000000000028 0.037999999999999999056 0.025000000000000001388" />
</geometry>
<material name="f3_material">
<color rgba="0.90196078431372550543 0.87843137254901959565 0.81176470588235294379 1.0"/>
</material>
</visual>
<!-- Shapes for prt0006 -->
<!-- Shapes for prt0006 -->
<!-- Shapes for prt0006 -->
<!-- Shapes for prt0006 -->
<!-- Shapes for f3 -->
<collision>
<origin xyz="-0.043650000000000008238 0 -0.020099999999999972056" rpy="-1.570796326794896558 -0 3.141592653589793116" />
<geometry>
<box size="0.0043000000000000000028 0.037999999999999999056 0.025000000000000001388" />
</geometry>
</collision>
<!-- Shapes for f3 -->
<visual>
<origin xyz="-0.043650000000000008238 0 -0.020099999999999972056" rpy="-1.570796326794896558 -0 3.141592653589793116" />
<geometry>
<box size="0.0043000000000000000028 0.037999999999999999056 0.025000000000000001388" />
</geometry>
<material name="f3_material">
<color rgba="0.90196078431372550543 0.87843137254901959565 0.81176470588235294379 1.0"/>
</material>
</visual>
<inertial>
<origin xyz="-0.037016831520621316931 0.0045137137322821992147 -0.019140437647307873698" rpy="0 0 0"/>
<mass value="0.094970933440056554131" />
<inertia ixx="2.3243481497663799818e-05" ixy="1.0010897413922899976e-05"  ixz="-1.1051629383696568195e-07" iyy="7.1068074999376979893e-05" iyz="-1.1236792301126556733e-07" izz="7.4511947663982895716e-05" />
</inertial>
</link>

<link name="segment3_6">
<!-- Shapes for f6 -->
<collision>
<origin xyz="0.0090000000000000131978 0.072499999999999106826 0.021000000000000001305" rpy="1.570796326794896558 -0 1.570796326794896558" />
<geometry>
<box size="0.041000000000000001721 0.025000000000000001388 0.00899999999999999932" />
</geometry>
</collision>
<!-- Shapes for f6 -->
<visual>
<origin xyz="0.0090000000000000131978 0.072499999999999106826 0.021000000000000001305" rpy="1.570796326794896558 -0 1.570796326794896558" />
<geometry>
<box size="0.041000000000000001721 0.025000000000000001388 0.00899999999999999932" />
</geometry>
<material name="f6_material">
<color rgba="0.90196078431372550543 0.87843137254901959565 0.81176470588235294379 1.0"/>
</material>
</visual>
<!-- Shapes for f4 -->
<collision>
<origin xyz="0 0.04585000000000009901 0.021000000000000001305" rpy="-0 1.570796326794896558 0" />
<geometry>
<box size="0.048000000000000000999 0.015699999999999998679 0.029000000000000001471" />
</geometry>
</collision>
<collision>
<origin xyz="0 0.021350000000000098066 -0.0014999999999999978628" rpy="-3.141592653589793116 -1.570796326794896558 0" />
<geometry>
<box size="0.0030000000000000000625 0.064700000000000007505 0.029000000000000001471" />
</geometry>
</collision>
<collision>
<origin xyz="0 0.021350000000000101535 0.043499999999999997002" rpy="-0 1.570796326794896558 0" />
<geometry>
<box size="0.0030000000000000000625 0.064700000000000007505 0.029000000000000001471" />
</geometry>
</collision>
<!-- Shapes for f4 -->
<visual>
<origin xyz="0 0.04585000000000009901 0.021000000000000001305" rpy="-0 1.570796326794896558 0" />
<geometry>
<box size="0.048000000000000000999 0.015699999999999998679 0.029000000000000001471" />
</geometry>
<material name="f4_material">
<color rgba="0.90196078431372550543 0.87843137254901959565 0.81176470588235294379 1.0"/>
</material>
</visual>
<visual>
<origin xyz="0 0.021350000000000098066 -0.0014999999999999978628" rpy="-3.141592653589793116 -1.570796326794896558 0" />
<geometry>
<box size="0.0030000000000000000625 0.064700000000000007505 0.029000000000000001471" />
</geometry>
<material name="f4_material">
<color rgba="0.90196078431372550543 0.87843137254901959565 0.81176470588235294379 1.0"/>
</material>
</visual>
<visual>
<origin xyz="0 0.021350000000000101535 0.043499999999999997002" rpy="-0 1.570796326794896558 0" />
<geometry>
<box size="0.0030000000000000000625 0.064700000000000007505 0.029000000000000001471" />
</geometry>
<material name="f4_material">
<color rgba="0.90196078431372550543 0.87843137254901959565 0.81176470588235294379 1.0"/>
</material>
</visual>
<inertial>
<origin xyz="0.0025954970530961121375 0.039161593937512180486 0.021000061499635541695" rpy="0 0 0"/>
<mass value="0.01707949220713730204" />
<inertia ixx="1.4424520102109512036e-05" ixy="-1.2065474106601948856e-06"  ixz="-9.1243323989383649071e-13" iyy="6.7952717509329697225e-06" iyz="4.4363323615090974944e-11" izz="1.0361261508764954537e-05" />
</inertial>
</link>

<joint name="leg6_m3" type="revolute">
<origin xyz="-0.060499999999999998224 0.022499999999999992228 1.7347234759768070944e-17" rpy="3.141592653589793116 -0 3.141592653589793116" />
<parent link="segment2_6" />
<child link="segment3_6" />
<axis xyz="0 0 1"/>
<limit effort="1" velocity="20" />
<joint_properties friction="0.0"/>
</joint>

<joint name="leg6_m2" type="revolute">
<origin xyz="0.020999999999999997835 -0.049000000000000015765 0.035499999999999989897" rpy="1.570796326794896558 -0 1.570796326794896558" />
<parent link="segment1_6" />
<child link="segment2_6" />
<axis xyz="0 0 1"/>
<limit effort="1" velocity="20" />
<joint_properties friction="0.0"/>
</joint>

<joint name="leg6_m1" type="revolute">
<origin xyz="0.095000000000000028866 1.3877787807814456755e-17 0.0041000000000000029476" rpy="3.141592653589793116 -0 -1.570796326794896558" />
<parent link="body" />
<child link="segment1_6" />
<axis xyz="0 0 1"/>
<limit effort="1" velocity="20" />
<joint_properties friction="0.0"/>
</joint>


</robot>
